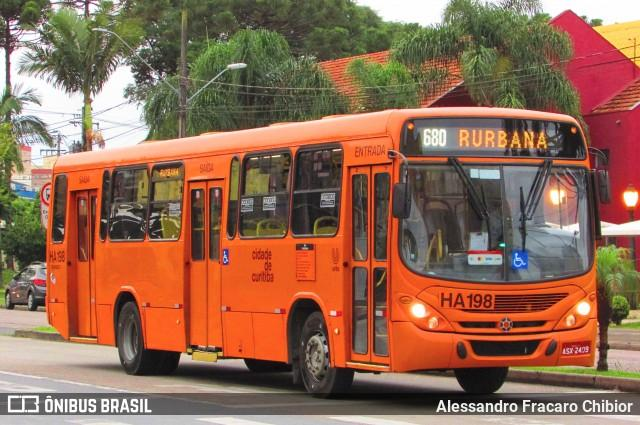RURBANA: (455, 124, 551, 153)
